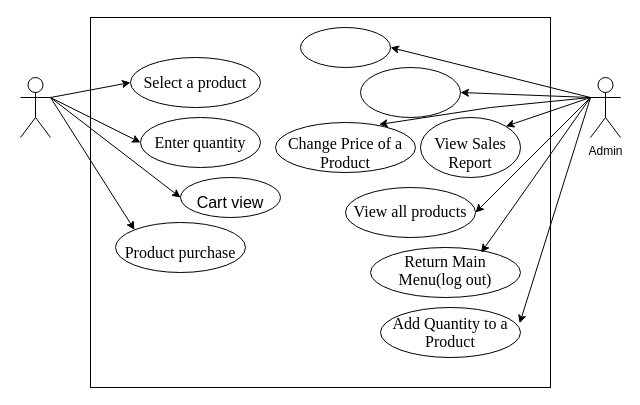
This 640x405 diagram has some shape labels left out. The shapes that lost their labels are listed below. From the top down, each one's centre as x and y in pixels, then its label:
point 345,47: Login
point 35,107: User (client)
point 410,92: Add a Product
